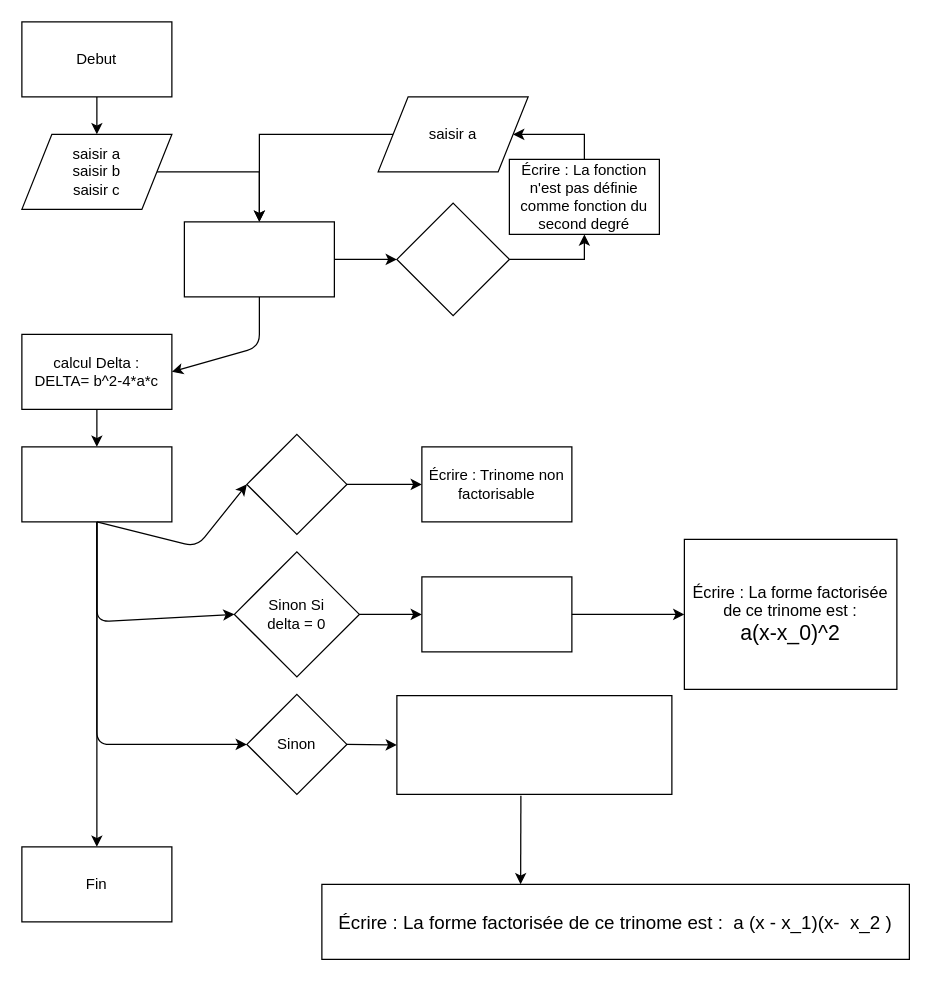
Some shapes in this 931 by 981 pixel diagram are drawn without their labels. Each missing label, with the box of its shape:
Fonction vérification de a (a non nul): (183, 221, 334, 297)
Si delta <0: (246, 433, 347, 534)
Tant que a = 0: (396, 202, 509, 316)
vérifcation Delta: (21, 446, 172, 522)
x_0 = -b(2*a): (421, 576, 572, 652)
x_1=(-1*b + racine(DELTA))/(2*a) x_2=(-1*b - racine(DELTA))/(2*a): (396, 694, 672, 794)
